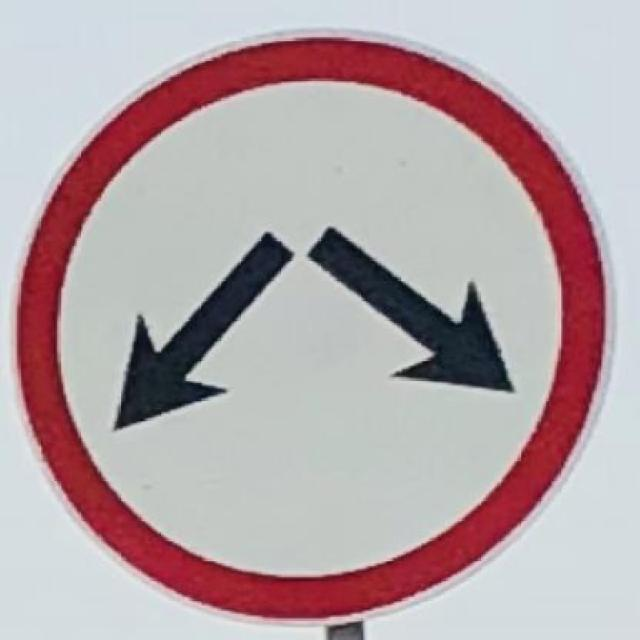pass either side: (18, 17, 625, 621)
